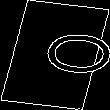O_W: (10, 29, 100, 81)
